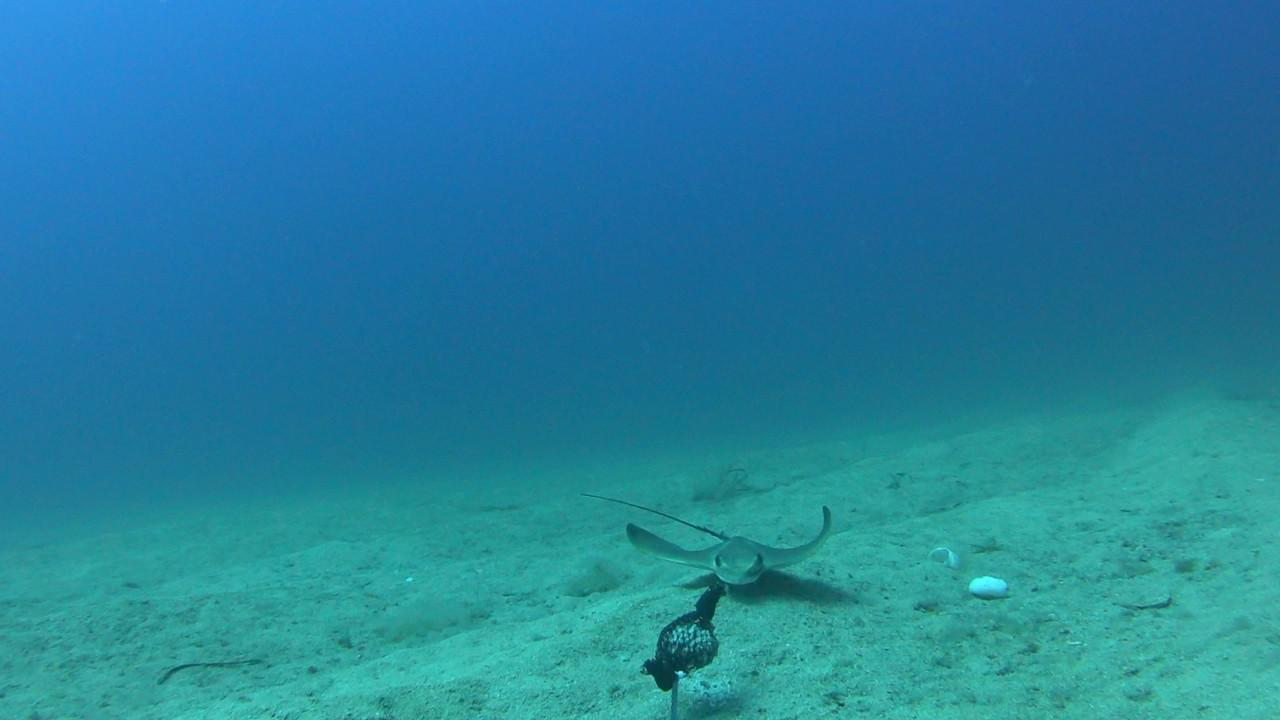myliobatis: (558, 476, 837, 590)
